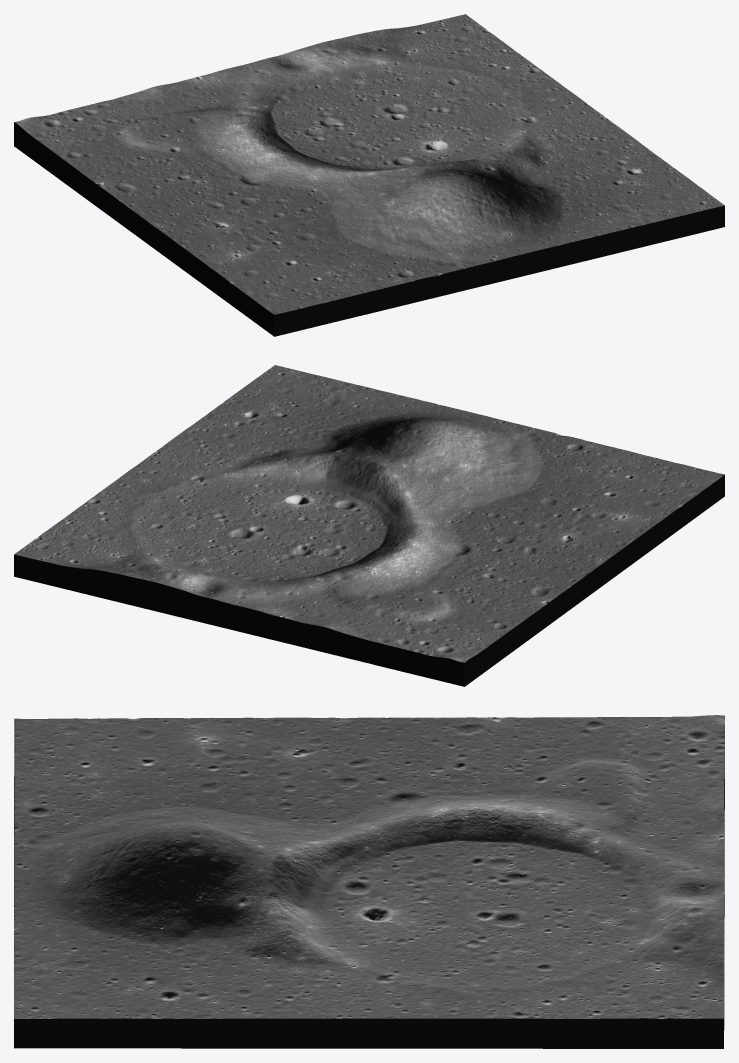
Rendered from the_moon_-_mare_vaporum_dome.glb.
3 renders of one model, top to bottom at view 1: azimuth 30°, elevation 25°; view 2: azimuth 150°, elevation 25°; view 3: azimuth 270°, elevation 25°, orthographic. The views are drawn at different scales.
Visible parts, largest first — view 1: MoonDome_LP; view 2: MoonDome_LP; view 3: MoonDome_LP.
Part boxes in pixels (x1=…): MoonDome_LP: x1=14, y1=14, x2=724, y2=336; MoonDome_LP: x1=14, y1=365, x2=724, y2=686; MoonDome_LP: x1=14, y1=715, x2=724, y2=1048.
Bounding box in the file's own units: 4.98 × 0.5866 × 4.98.
2 materials, 1 textured.
